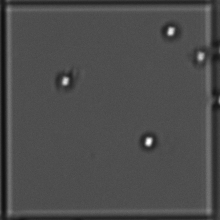Living Cell: (53, 67, 80, 94), (160, 18, 181, 45), (137, 128, 159, 152), (189, 45, 208, 71)
